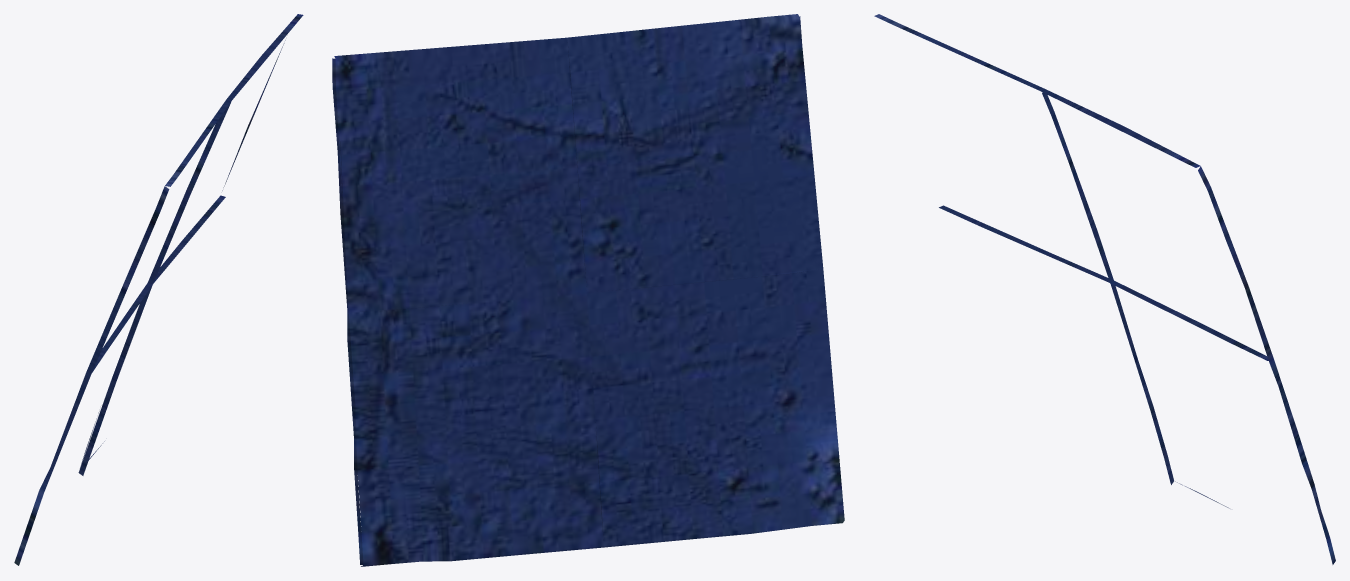
The picture shows the model from 3 angles, left to right: view 1: azimuth 30°, elevation 25°; view 2: azimuth 150°, elevation 25°; view 3: azimuth 270°, elevation 25°; orthographic projection. The views are drawn at different scales.
Size of the model in its own units: 587136 by 594579 by 557581.
Materials: 1 (1 with a texture image).
